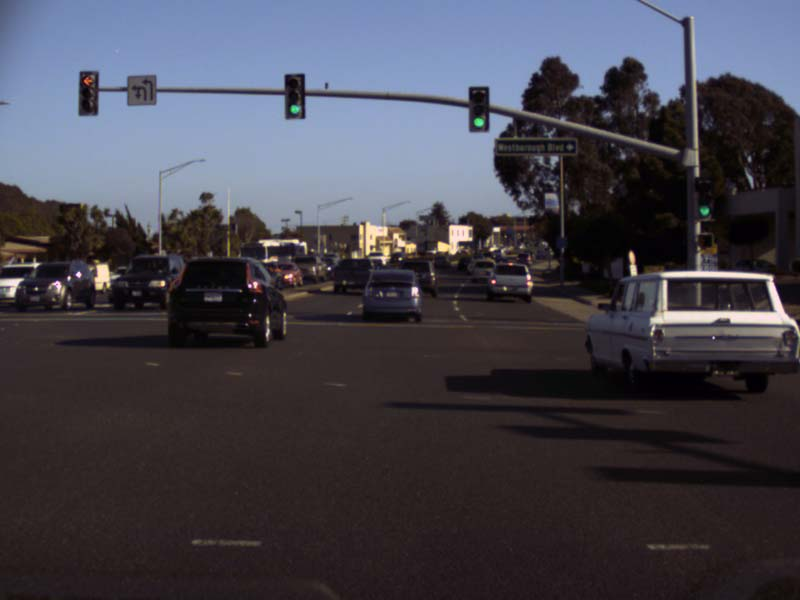Green: (285, 73, 304, 117), (468, 87, 487, 130), (695, 177, 713, 221)
Red: (79, 71, 97, 114)
